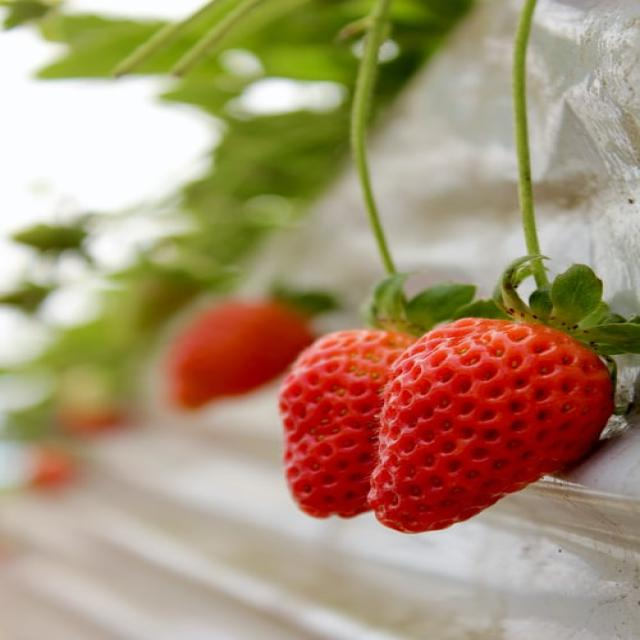immature: (366, 318, 614, 534), (280, 332, 422, 517)
